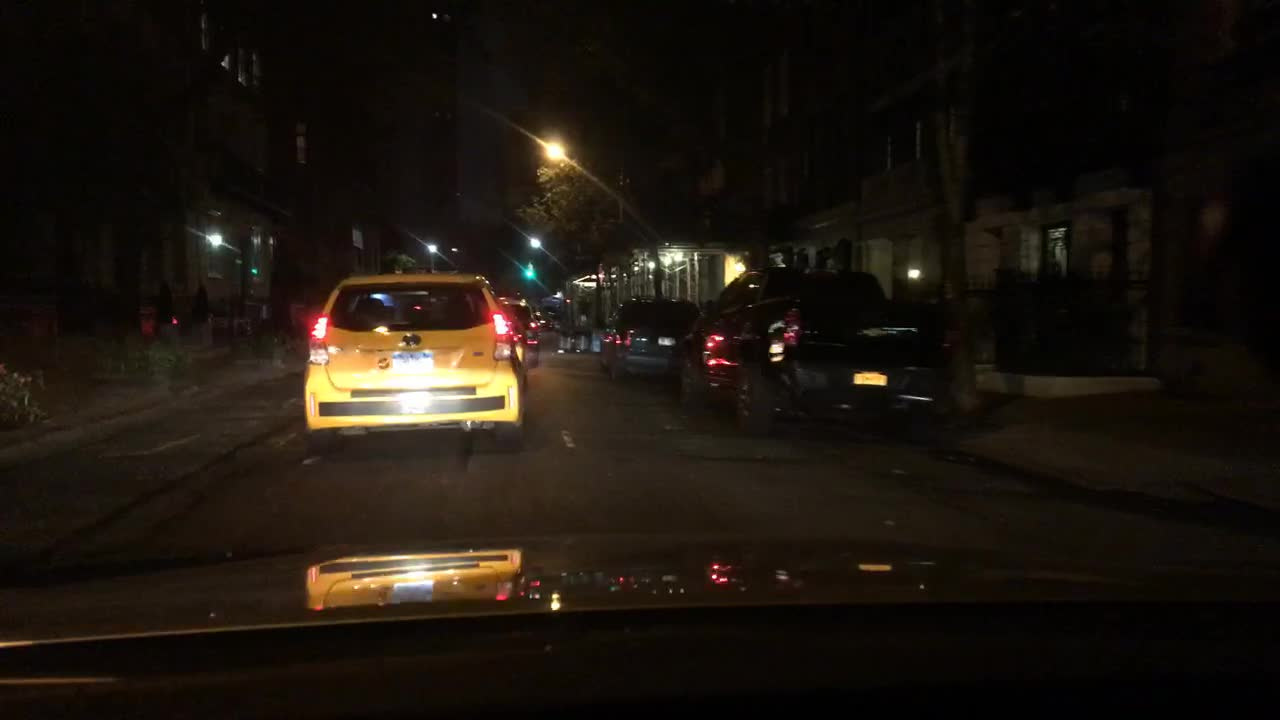car: (300, 272, 528, 457), (594, 295, 700, 383), (498, 295, 538, 366), (530, 302, 558, 329)
person: (152, 275, 180, 347), (185, 280, 211, 347)
traffic light: (523, 261, 535, 280)
truck: (671, 263, 955, 437)
